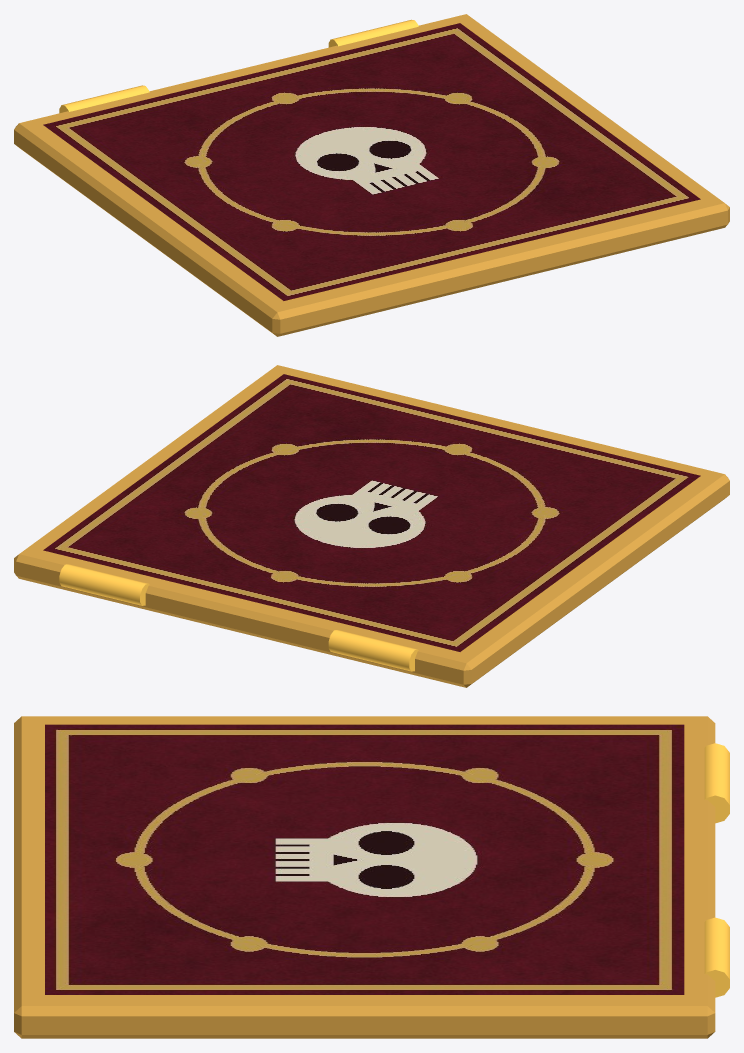
The model's file is lb4_trapdoor.glb.
3 renders of one model, top to bottom at view 1: azimuth 30°, elevation 25°; view 2: azimuth 150°, elevation 25°; view 3: azimuth 270°, elevation 25°, orthographic. The views are drawn at different scales.
Visible parts, largest first — view 1: lb4_trapdoor; view 2: lb4_trapdoor; view 3: lb4_trapdoor.
Boxes of the visible parts, x1=… form: lb4_trapdoor: x1=14, y1=14, x2=729, y2=336; lb4_trapdoor: x1=14, y1=365, x2=729, y2=687; lb4_trapdoor: x1=14, y1=716, x2=729, y2=1038.
Bounding box in the file's own units: 1.36 × 0.08 × 1.39.
3 materials, 1 textured.
